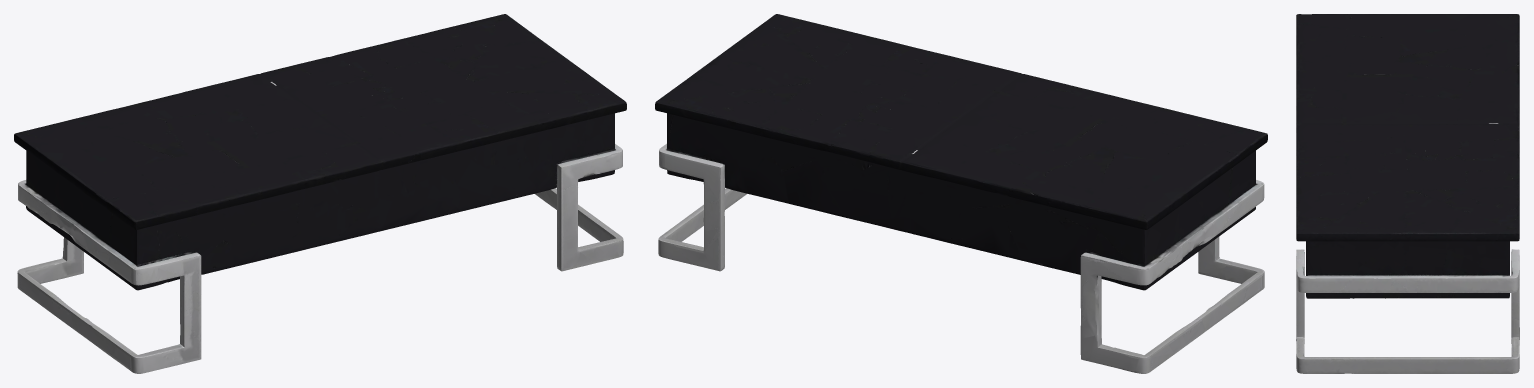
File: homedepot-com-p-acme-furniture-calnan-47-in-black-chrome-lar-d3d235.glb
3 renders of one model, left to right at view 1: azimuth 30°, elevation 25°; view 2: azimuth 150°, elevation 25°; view 3: azimuth 270°, elevation 25°, orthographic. The views are drawn at different scales.
Parts seen in each view (by area): view 1: Mesh_0; view 2: Mesh_0; view 3: Mesh_0.
Boxes of the visible parts, x1=… form: Mesh_0: x1=14, y1=14, x2=626, y2=373; Mesh_0: x1=655, y1=14, x2=1267, y2=373; Mesh_0: x1=1296, y1=14, x2=1519, y2=373.
Size of the model in its own units: 1.9 by 0.5682 by 0.8164.
Materials: 1 (1 with a texture image).
